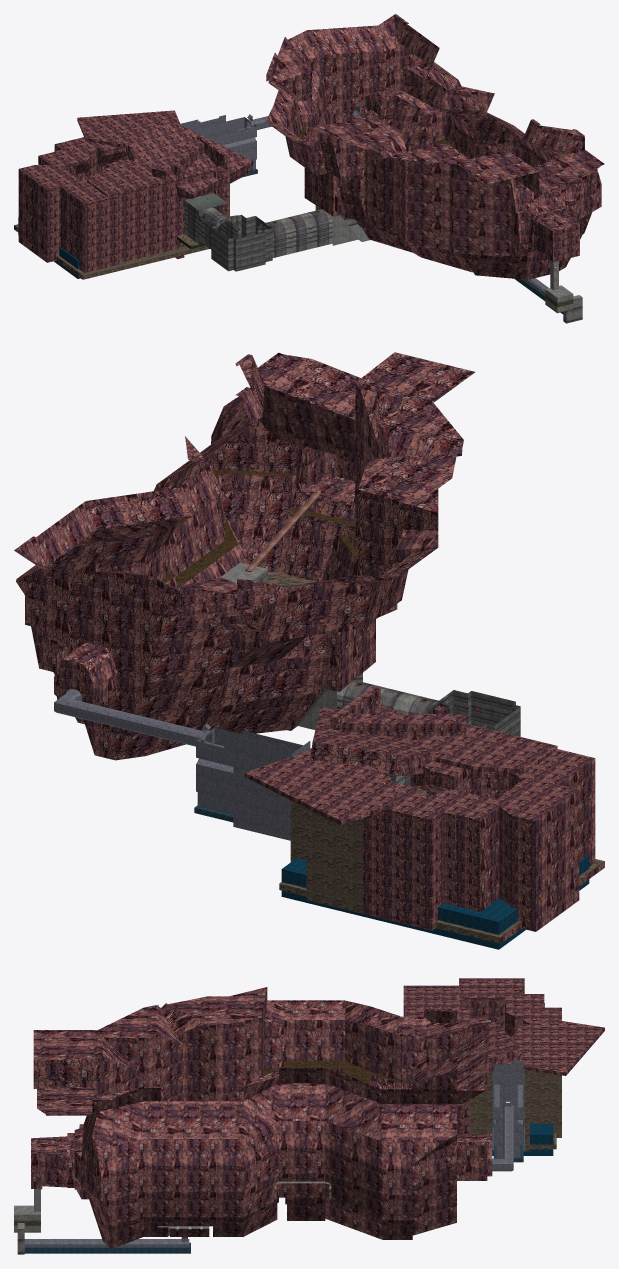
The model's file is bounce_1.glb.
The picture shows the model from 3 angles, top to bottom: view 1: azimuth 30°, elevation 25°; view 2: azimuth 150°, elevation 25°; view 3: azimuth 270°, elevation 25°; orthographic projection. The views are drawn at different scales.
Visible parts, largest first — view 1: bounce_world_geometry; view 2: bounce_world_geometry, func_water_14; view 3: bounce_world_geometry, func_water_19, func_water_14.
Part boxes in pixels (box(x1,y1,x2,y2)): bounce_world_geometry: box(14, 14, 604, 323); bounce_world_geometry: box(14, 352, 604, 943); func_water_14: box(281, 855, 589, 949); bounce_world_geometry: box(14, 978, 604, 1254); func_water_19: box(24, 1242, 190, 1253); func_water_14: box(492, 1123, 553, 1155).
Bounding box in the file's own units: 90.62 × 35.66 × 101.
106 materials, 106 textured.
